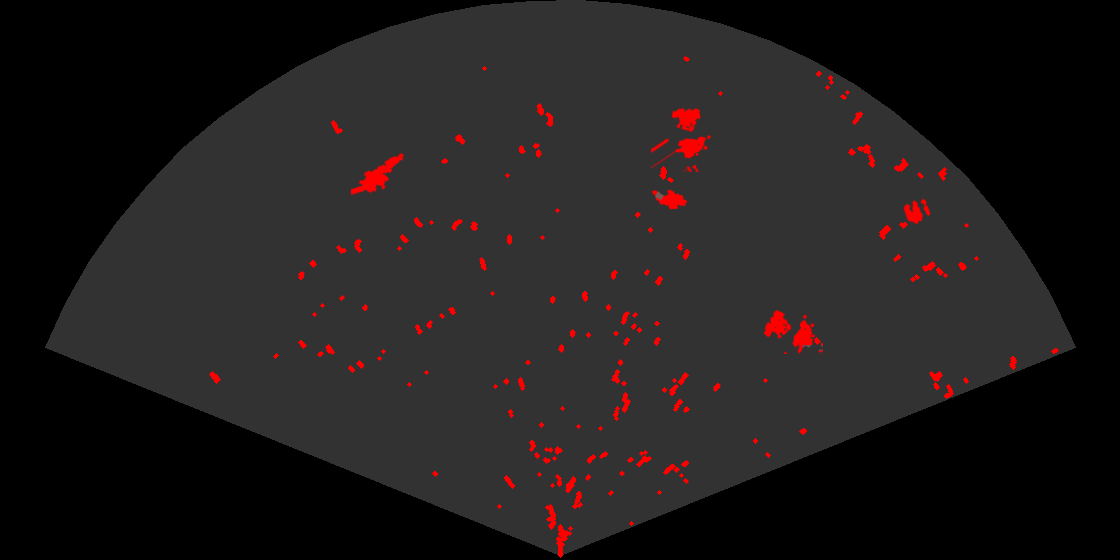AUV: (650, 188, 689, 211)
ball: (902, 197, 932, 226)
cage: (651, 106, 713, 172), (762, 308, 823, 354)
frogman: (351, 152, 406, 197)
